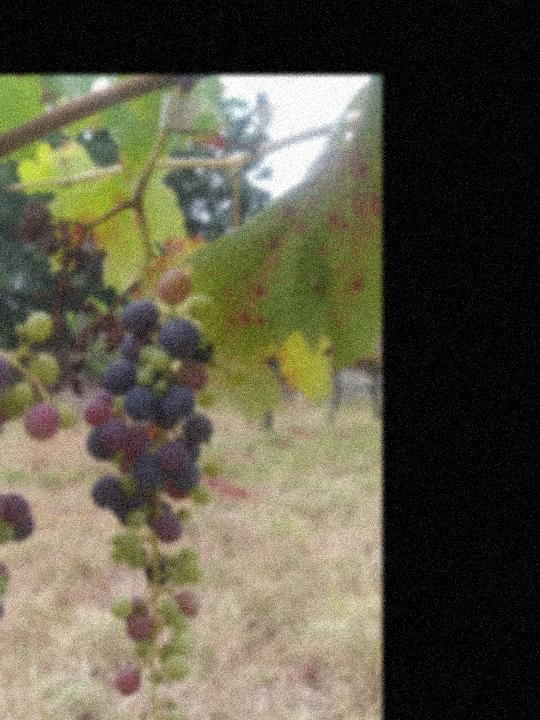grape: (84, 271, 243, 720), (0, 206, 78, 683), (15, 201, 124, 400)
